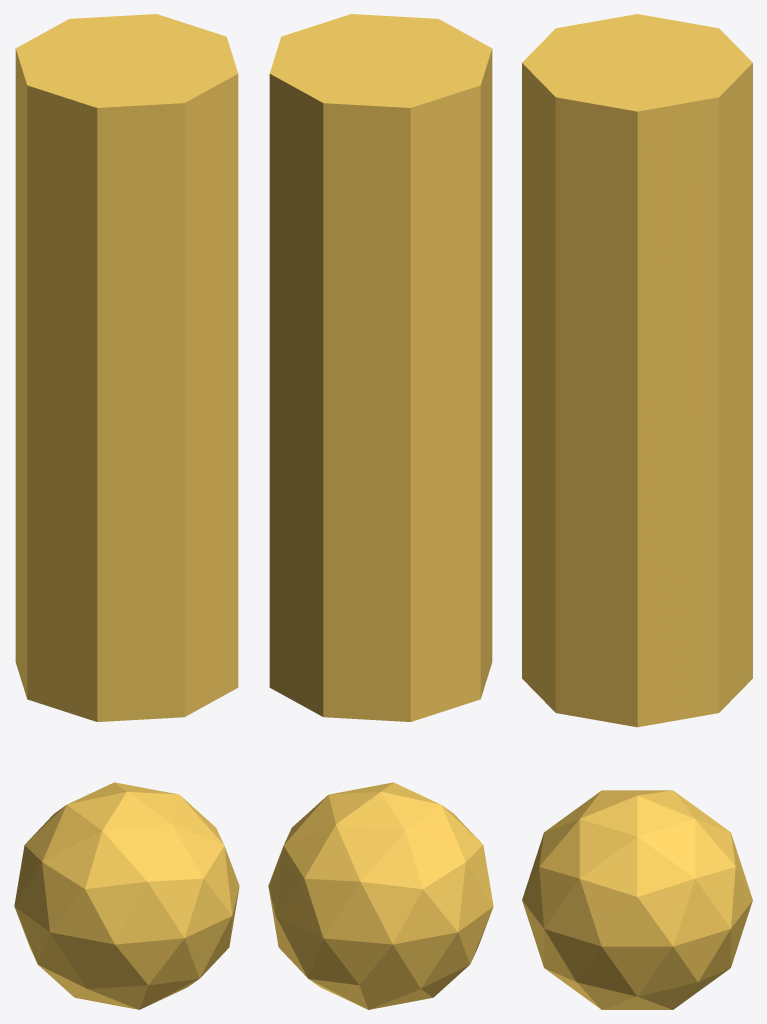
Rendered from bite_exclamation.glb.
3 renders of one model, left to right at view 1: azimuth 30°, elevation 25°; view 2: azimuth 150°, elevation 25°; view 3: azimuth 270°, elevation 25°, orthographic.
Parts seen in each view (by area): view 1: bite_exclamation; view 2: bite_exclamation; view 3: bite_exclamation.
Boxes of the visible parts, x1,y1,x2,y2 form: bite_exclamation: (14,14,239,1009); bite_exclamation: (268,14,493,1009); bite_exclamation: (522,14,752,1009).
Size of the model in its own units: 0.17 by 0.765 by 0.17.
